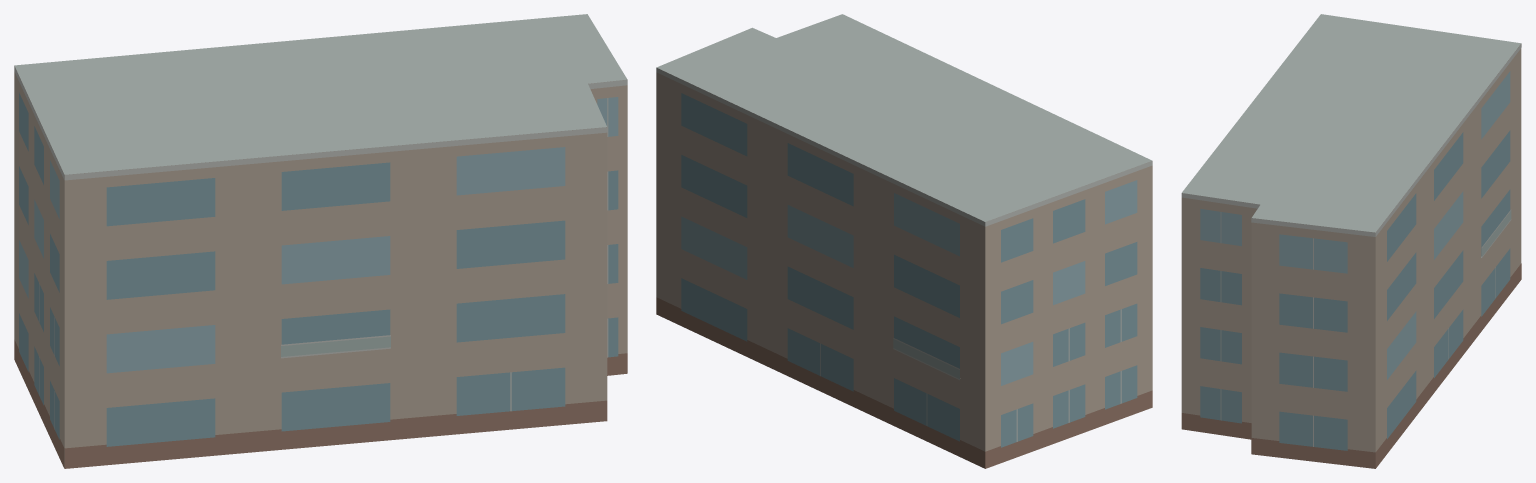
File: survey-upis-33032765.glb
3 views of the same model, side by side, from view 1: azimuth 30°, elevation 25°; view 2: azimuth 150°, elevation 25°; view 3: azimuth 270°, elevation 25° (orthographic). The views are drawn at different scales.
Visible parts, largest first — view 1: survey-upis-33032765.tmp; view 2: survey-upis-33032765.tmp; view 3: survey-upis-33032765.tmp.
Part boxes in pixels (x1,y1,x2,y2): survey-upis-33032765.tmp: (14, 14, 627, 468); survey-upis-33032765.tmp: (656, 14, 1152, 468); survey-upis-33032765.tmp: (1181, 14, 1521, 468).
Size of the model in its own units: 25.19 by 12.7 by 16.56.
